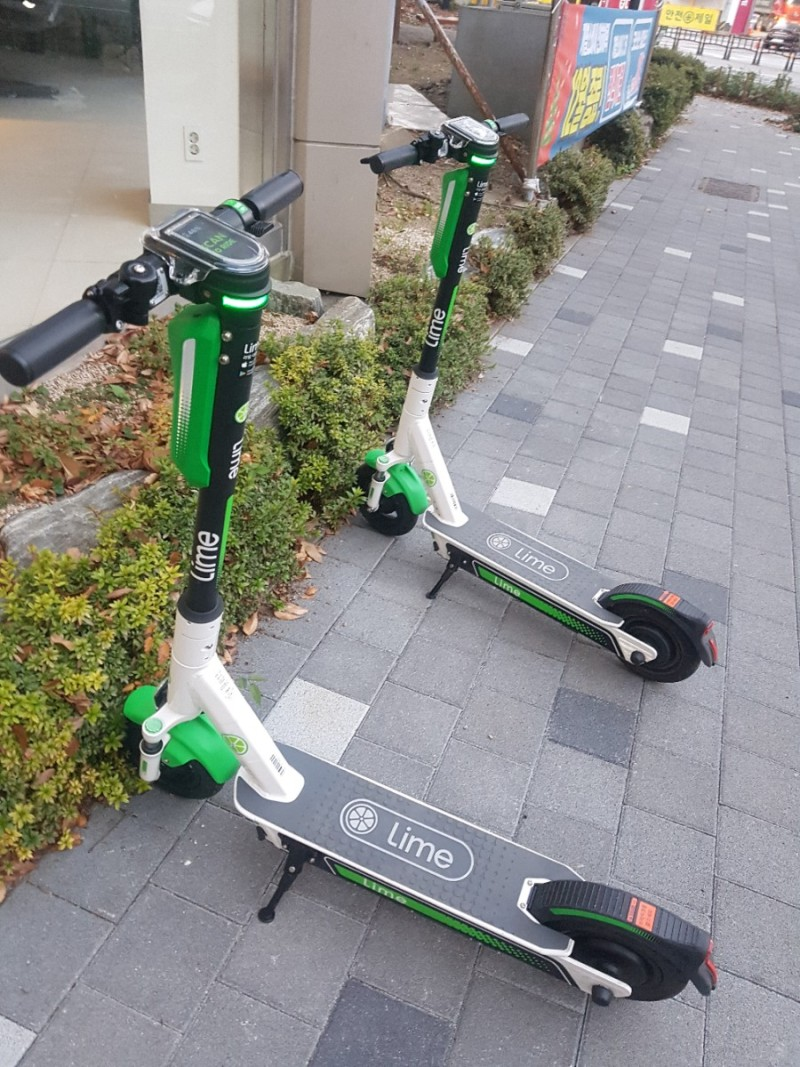scooter: (9, 166, 718, 1013), (348, 110, 727, 698)
